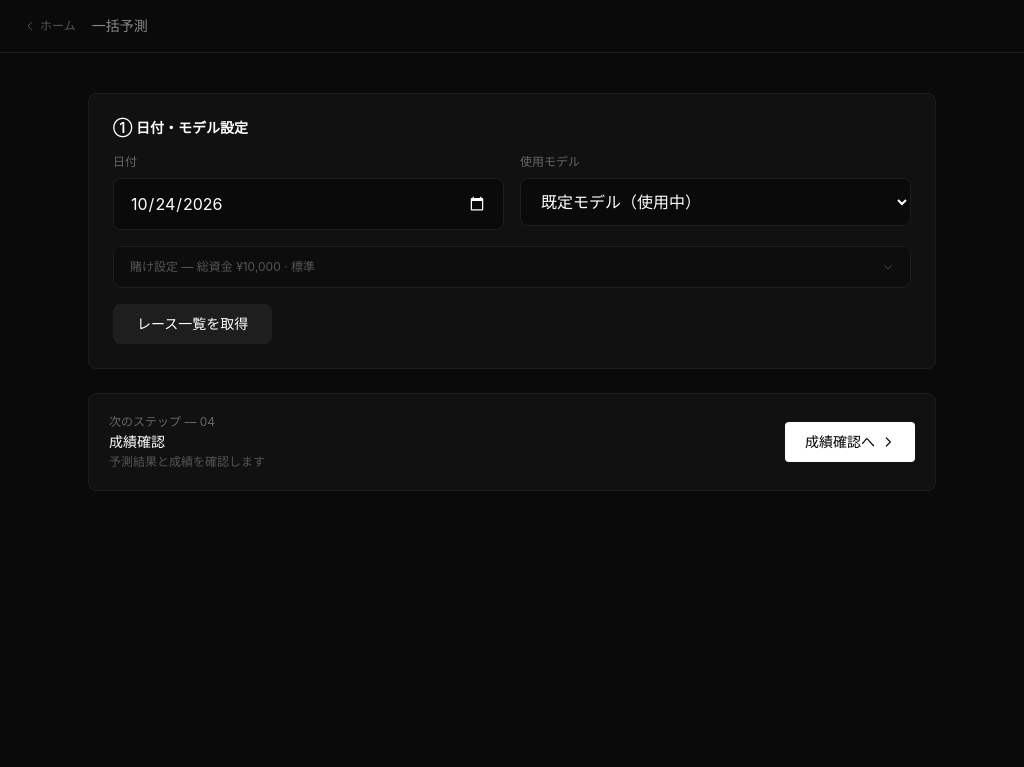
Test: batch betting settings › invalidates stake recommendations on bankroll changes without automatically predicting again
This screenshot has width=1024, height=767.
Click the button "レース一覧を取得" at (193, 324), box x1=113 y1=304 x2=272 y2=344
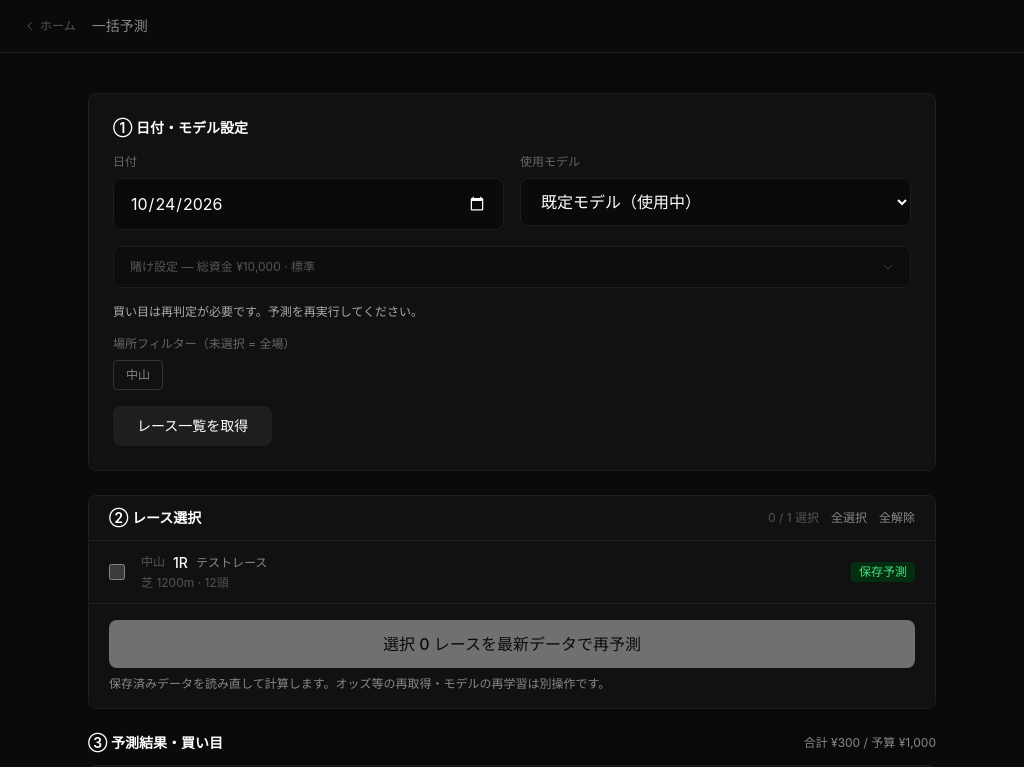
Expected: the text "合計 ¥300 / 予算 ¥1,000" is shown, x1=804 y1=735 x2=936 y2=751
Click the button "賭け設定 — 総資金 ¥10,000 · 標準" at (186, 266), box x1=114 y1=247 x2=910 y2=287
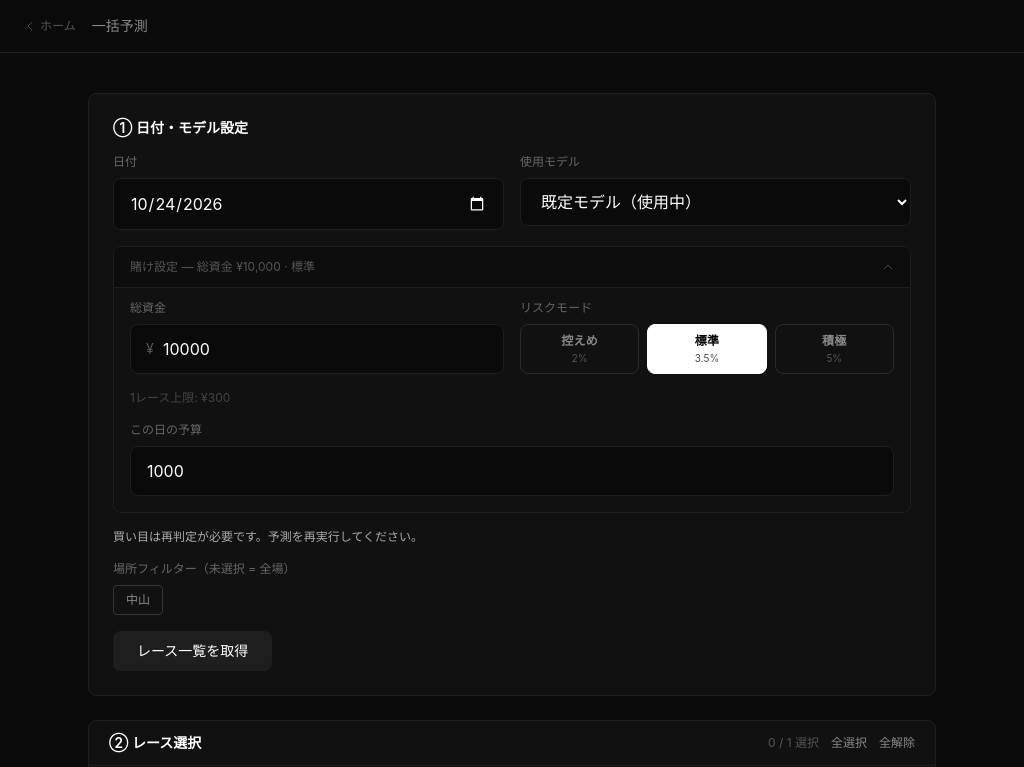
Expected: the text "1レース上限: ¥300" is shown, x1=130 y1=390 x2=230 y2=405
Replace the text in the number field labelled "総資金" with "20000" at (317, 349), box x1=130 y1=324 x2=504 y2=374
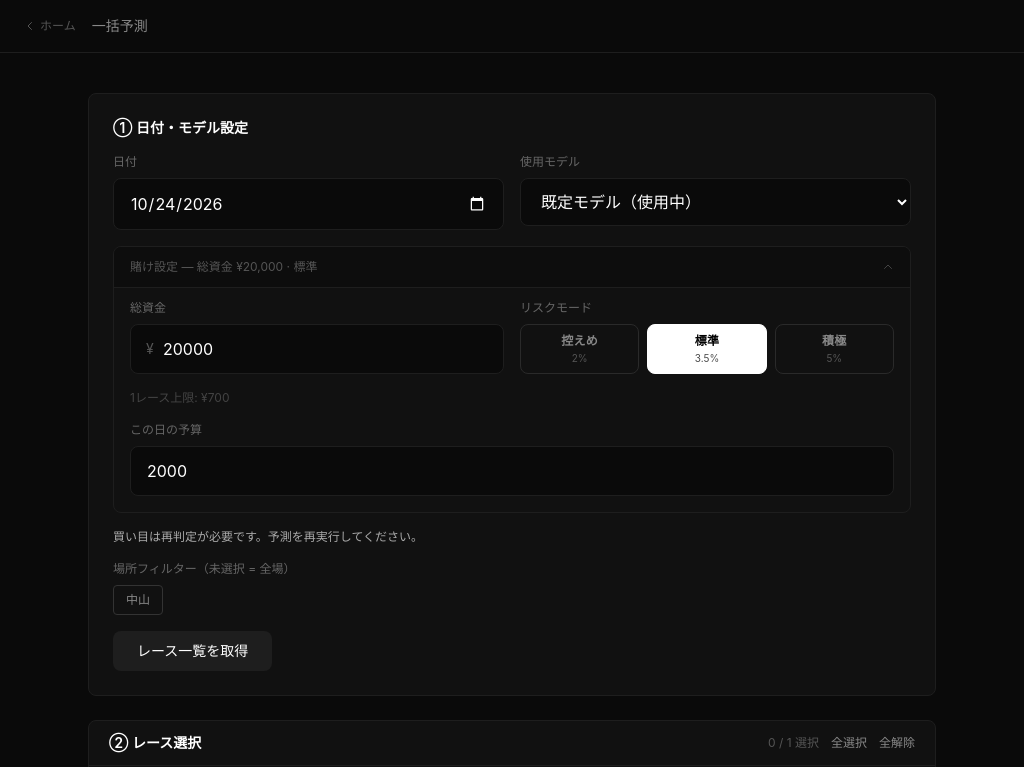
Expected: the text "買い目は再判定が必要です。予測を再実行してください。" is shown, x1=113 y1=529 x2=423 y2=544
Expected: the number field labelled "この日の予算" holds "2000", x1=130 y1=446 x2=894 y2=496
